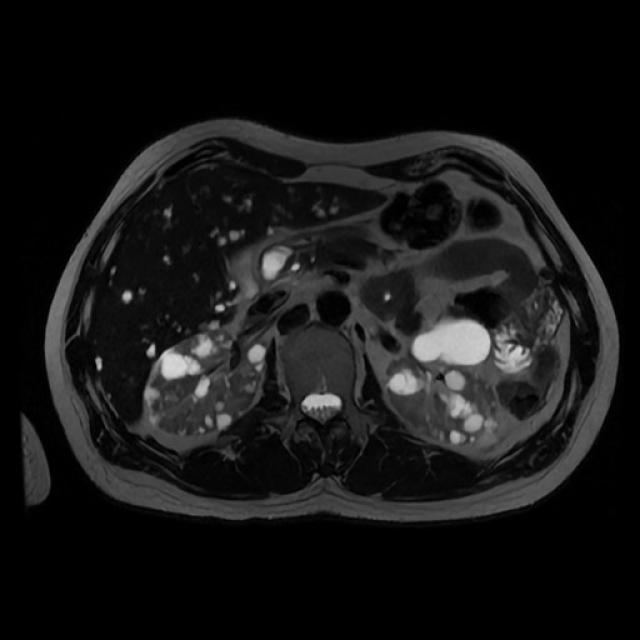sag: (143, 327, 270, 440)
sol: (385, 317, 500, 452)
